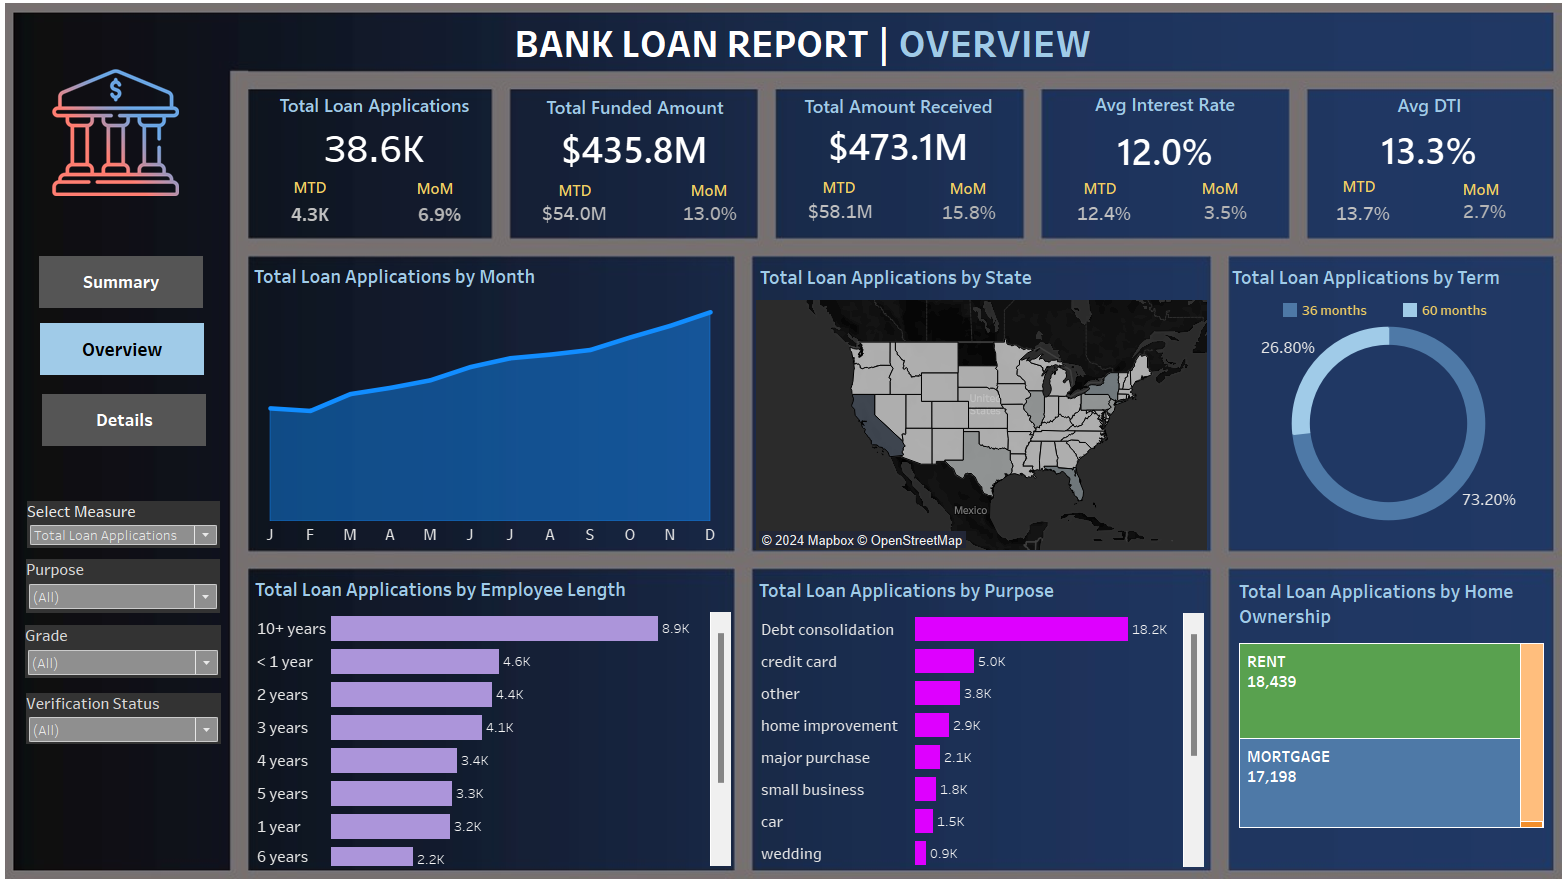

The page's visual inventory and layout, read from the dashboard file:
{"tool":"tableau","page":{"name":"OVERVIEW","canvas":[1600,900],"ordinal":1},"visuals":[{"type":"image","param":"D:/ProJ_Activity/Portfolio Project/Bank Loan Project/Bank Loan Project/Tableau B","box":[8,8,1584,884]},{"type":"text","box":[527,23,600,56]},{"type":"image","param":"C:/Users/singh/AppData/Local/Temp/TableauTemp/0ttv3fi17pgv751f3xp4t11zuqg1/Sheet","box":[68,78,135,127]},{"type":"worksheet","title":"Avg Interest Rate","mark":"Automatic","box":[1061,97,240,86]},{"type":"worksheet","title":"Total Loan Applications","mark":"Automatic","box":[278,98,225,79]},{"type":"worksheet","title":"Avg DTI","mark":"Automatic","box":[1325,98,241,83]},{"type":"worksheet","title":"Total Amount Received","mark":"Automatic","box":[795,99,239,73]},{"type":"worksheet","title":"Total Funded Amount","mark":"Automatic","box":[533,100,236,76]},{"type":"text","box":[1333,183,84,23]},{"type":"text","box":[284,184,84,23]},{"type":"text","box":[813,184,84,23]},{"type":"text","box":[409,185,84,23]},{"type":"text","box":[942,185,84,23]},{"type":"text","box":[1074,185,84,23]},{"type":"text","box":[1194,185,84,23]},{"type":"text","box":[1455,186,84,23]},{"type":"text","box":[549,187,84,23]},{"type":"text","box":[683,187,84,23]},{"type":"worksheet","title":"MTD Total Amount Received","mark":"Automatic","box":[815,203,83,34]},{"type":"worksheet","title":"MTD Avg DTI","mark":"Automatic","box":[1342,204,74,36]},{"type":"worksheet","title":"MTD Total Funded Amount","mark":"Automatic","box":[549,205,84,35]},{"type":"worksheet","title":"MoM Total Amount Received","mark":"Automatic","box":[946,205,78,32]},{"type":"worksheet","title":"MoM Avg DTI","mark":"Automatic","box":[1467,205,68,31]},{"type":"worksheet","title":"MoM Avg INT Rate","mark":"Automatic","box":[1207,206,71,30]},{"type":"worksheet","title":"MTD Total Loan Applications","mark":"Automatic","box":[286,207,81,32]},{"type":"worksheet","title":"MoM Loan Applications","mark":"Automatic","box":[420,207,73,33]},{"type":"worksheet","title":"MTD Avg INT Rate","mark":"Automatic","box":[1083,207,75,30]},{"type":"worksheet","title":"MoM Total Funded Amount","mark":"Automatic","box":[688,209,76,27]},{"type":"dashboard-object","box":[55,265,164,52]},{"type":"worksheet","title":"Month","mark":"Area","rows":["Calculation_892557189473669132","Calculation_892557189473669132"],"cols":["issue_date"],"box":[266,268,480,287]},{"type":"worksheet","title":"State","mark":"Multipolygon","box":[772,269,451,290]},{"type":"worksheet","title":"Term","mark":"Pie","rows":["Calculation_892557189485019150","Calculation_892557189485019150"],"box":[1244,269,321,287]},{"type":"legend","title":"Term","param":"[federated.1j144lr13v6qkz1451sw916ulhen].[none:term:nk]","box":[1296,309,259,25]},{"type":"dashboard-object","box":[56,332,164,52]},{"type":"dashboard-object","box":[58,403,164,52]},{"type":"parameter","param":"[Parameters].[Parameter 1]","box":[43,510,193,47]},{"type":"filter","title":"Avg DTI","param":"[federated.1j144lr13v6qkz1451sw916ulhen].[none:purpose:nk]","box":[42,568,194,54]},{"type":"worksheet","title":"Emp Length","mark":"Automatic","rows":["emp_length"],"cols":["Calculation_892557189473669132"],"box":[267,581,480,294]},{"type":"worksheet","title":"Purpose","mark":"Automatic","rows":["purpose"],"cols":["Calculation_892557189473669132"],"box":[771,582,449,294]},{"type":"worksheet","title":"Home Own","mark":"Automatic","box":[1251,583,312,293]},{"type":"filter","title":"Avg DTI","param":"[federated.1j144lr13v6qkz1451sw916ulhen].[none:grade:nk]","box":[41,634,196,53]},{"type":"filter","title":"Avg DTI","param":"[federated.1j144lr13v6qkz1451sw916ulhen].[none:verification_status:nk]","box":[42,702,195,51]}]}

Visuals, with their boxes in screenshot pixels (x1, y1, x2, y2), scaled from the page's 1600x900 canvas onto the 1565x882 screenshot:
image: l=8, t=8, r=1557, b=874
text: l=515, t=23, r=1102, b=77
image: l=67, t=76, r=199, b=201
"Avg Interest Rate" worksheet: l=1038, t=95, r=1273, b=179
"Total Loan Applications" worksheet: l=272, t=96, r=492, b=173
"Avg DTI" worksheet: l=1296, t=96, r=1532, b=177
"Total Amount Received" worksheet: l=778, t=97, r=1011, b=169
"Total Funded Amount" worksheet: l=521, t=98, r=752, b=172
text: l=1304, t=179, r=1386, b=202
text: l=278, t=180, r=360, b=203
text: l=795, t=180, r=877, b=203
text: l=400, t=181, r=482, b=204
text: l=921, t=181, r=1004, b=204
text: l=1051, t=181, r=1133, b=204
text: l=1168, t=181, r=1250, b=204
text: l=1423, t=182, r=1505, b=205
text: l=537, t=183, r=619, b=206
text: l=668, t=183, r=750, b=206
"MTD Total Amount Received" worksheet: l=797, t=199, r=878, b=232
"MTD Avg DTI" worksheet: l=1313, t=200, r=1385, b=235
"MTD Total Funded Amount" worksheet: l=537, t=201, r=619, b=235
"MoM Total Amount Received" worksheet: l=925, t=201, r=1002, b=232
"MoM Avg DTI" worksheet: l=1435, t=201, r=1501, b=231
"MoM Avg INT Rate" worksheet: l=1181, t=202, r=1250, b=231
"MTD Total Loan Applications" worksheet: l=280, t=203, r=359, b=234
"MoM Loan Applications" worksheet: l=411, t=203, r=482, b=235
"MTD Avg INT Rate" worksheet: l=1059, t=203, r=1133, b=232
"MoM Total Funded Amount" worksheet: l=673, t=205, r=747, b=231
dashboard-object: l=54, t=260, r=214, b=311
"Month" worksheet (Area marks): l=260, t=263, r=730, b=544
"State" worksheet (Multipolygon marks): l=755, t=264, r=1196, b=548
"Term" worksheet (Pie marks): l=1217, t=264, r=1531, b=545
"Term" legend: l=1268, t=303, r=1521, b=327
dashboard-object: l=55, t=325, r=215, b=376
dashboard-object: l=57, t=395, r=217, b=446
parameter: l=42, t=500, r=231, b=546
"Avg DTI" filter: l=41, t=557, r=231, b=610
"Emp Length" worksheet: l=261, t=569, r=731, b=858
"Purpose" worksheet: l=754, t=570, r=1193, b=858
"Home Own" worksheet: l=1224, t=571, r=1529, b=858
"Avg DTI" filter: l=40, t=621, r=232, b=673
"Avg DTI" filter: l=41, t=688, r=232, b=738
